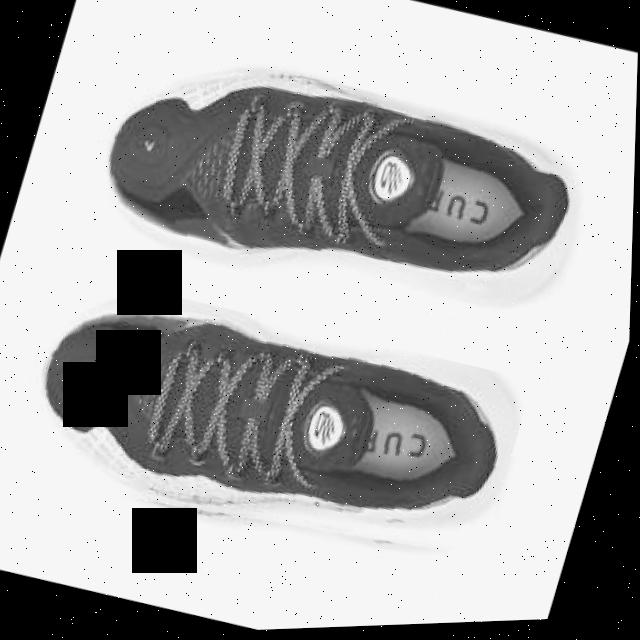shoe: (9, 259, 539, 602), (77, 25, 602, 363)
